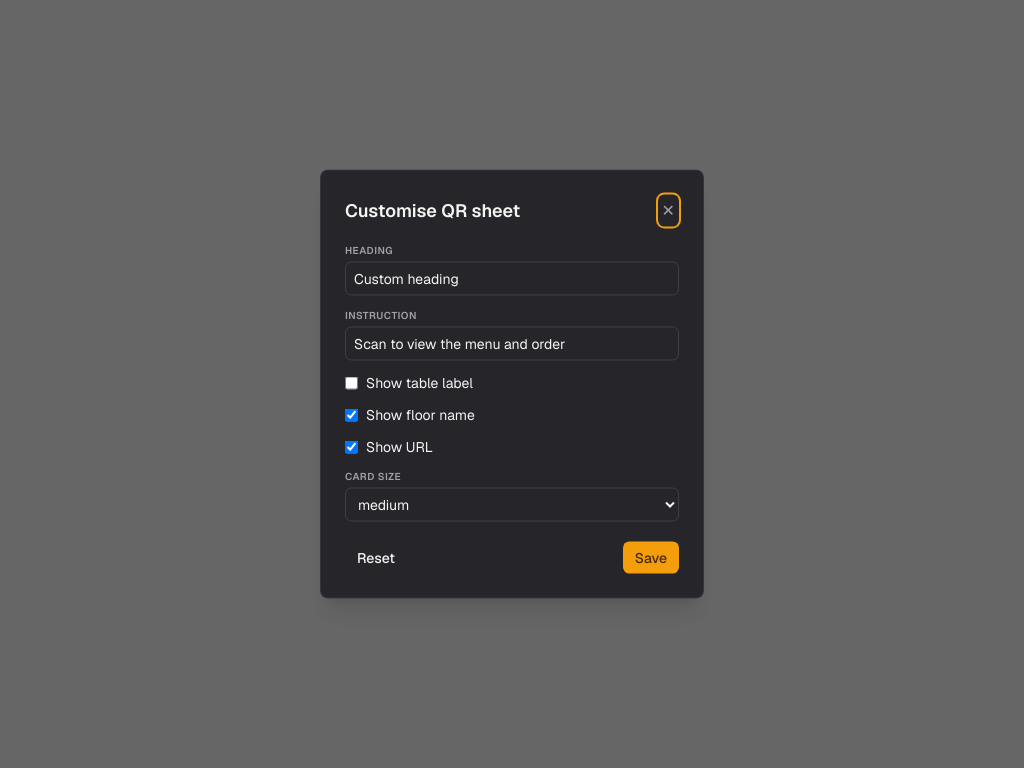
Test: QrSheetTemplateDialog › resets the draft to the outlet's defaults without saving or closing
Expected: the field with test id "qr-template-heading" holds "Custom heading", [345,262,679,296]
Click the button with test id "qr-template-reset" at point(376, 558), box [345,542,407,574]
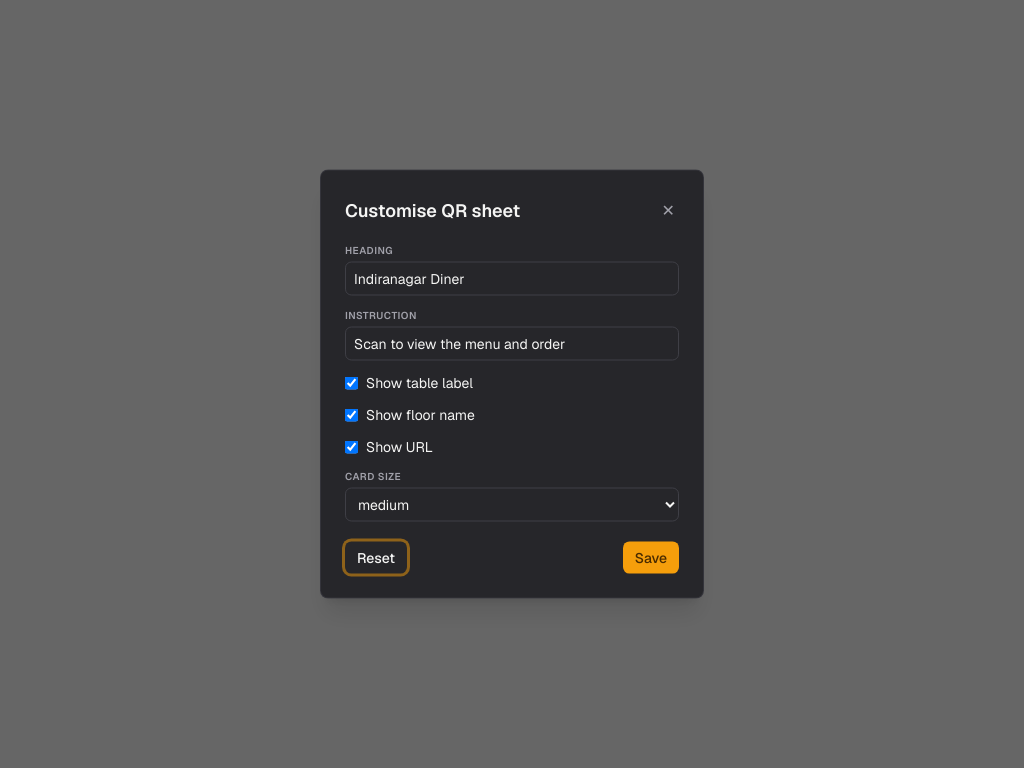
Expected: the field with test id "qr-template-heading" holds "Indiranagar Diner", [345,262,679,296]
Expected: the checkbox with test id "qr-template-show-label" is checked, [345,376,358,389]
